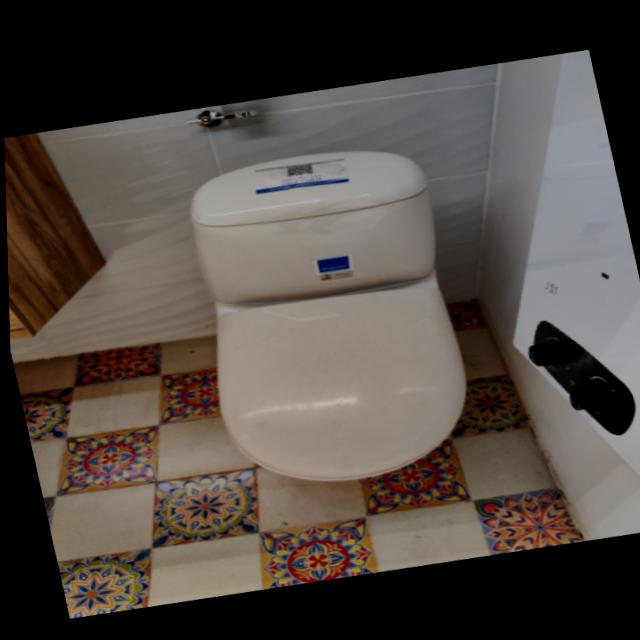toilet: (165, 124, 490, 504)
